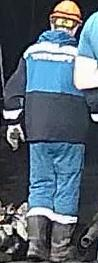gloves: (4, 116, 27, 153)
helmet: (48, 0, 83, 23)
vest: (16, 31, 97, 154)
